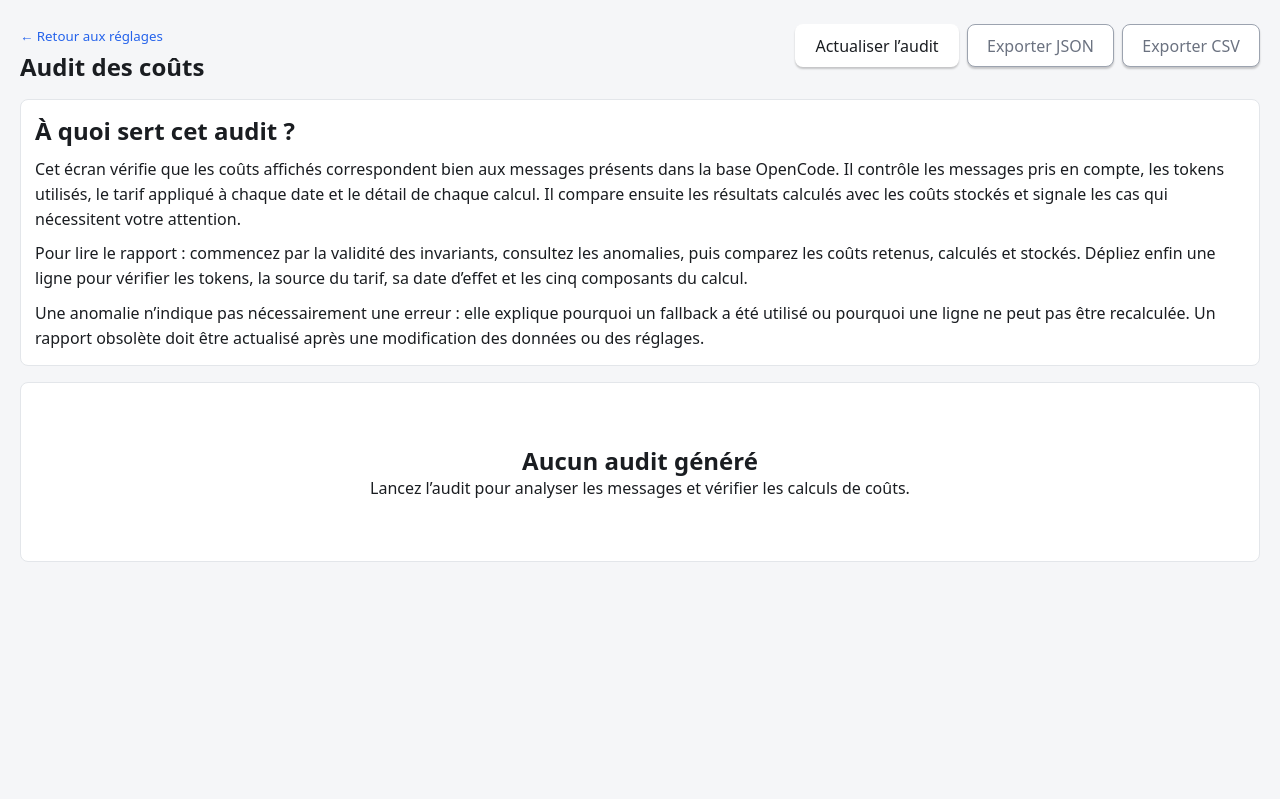
Test: AuditView › shows counters, total costs and the last successful update date
Step 1. Click the button "Actualiser l’audit" → coordinates (877, 46), box [795, 24, 959, 67]
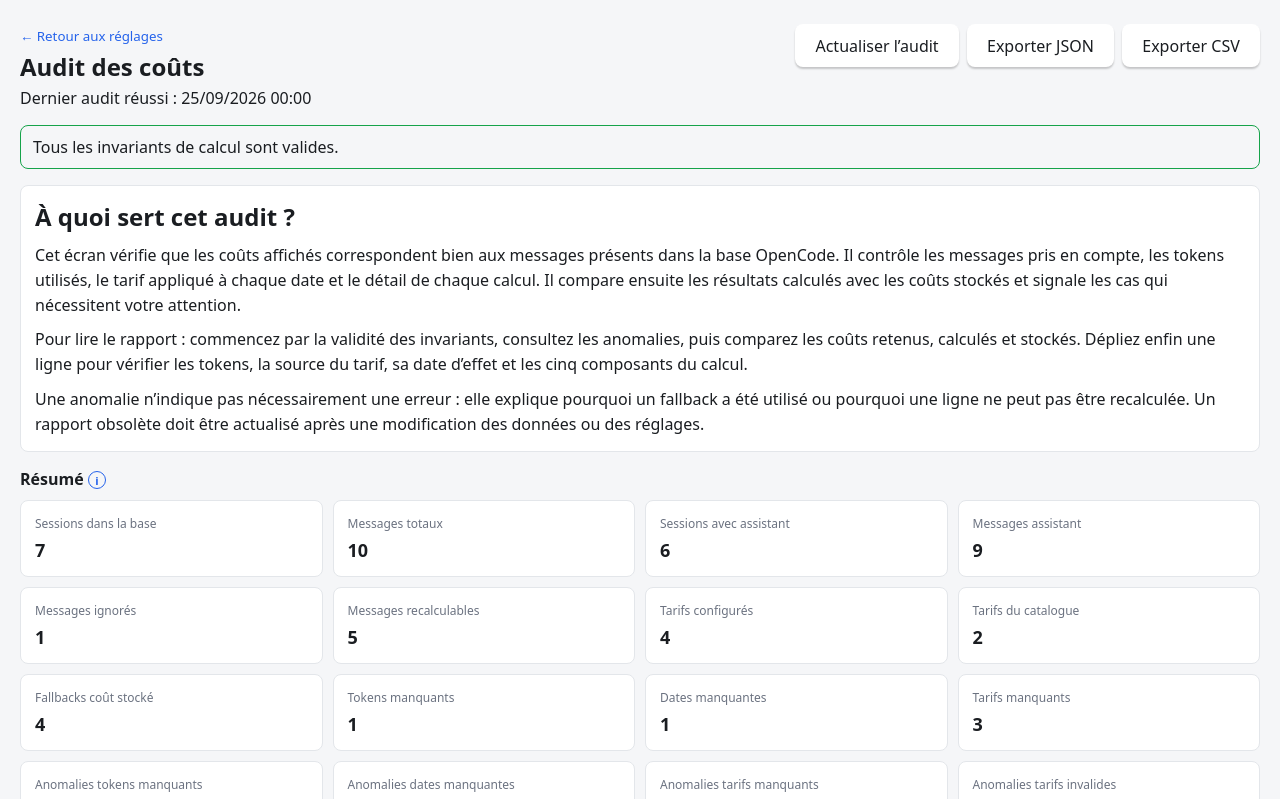
Check: the text "Sessions dans la base" is shown, box [35, 515, 156, 532]
Check: the text "Messages assistant" is shown, box [972, 515, 1081, 532]
Check: the text "Sessions avec assistant" is shown, box [660, 515, 790, 532]
